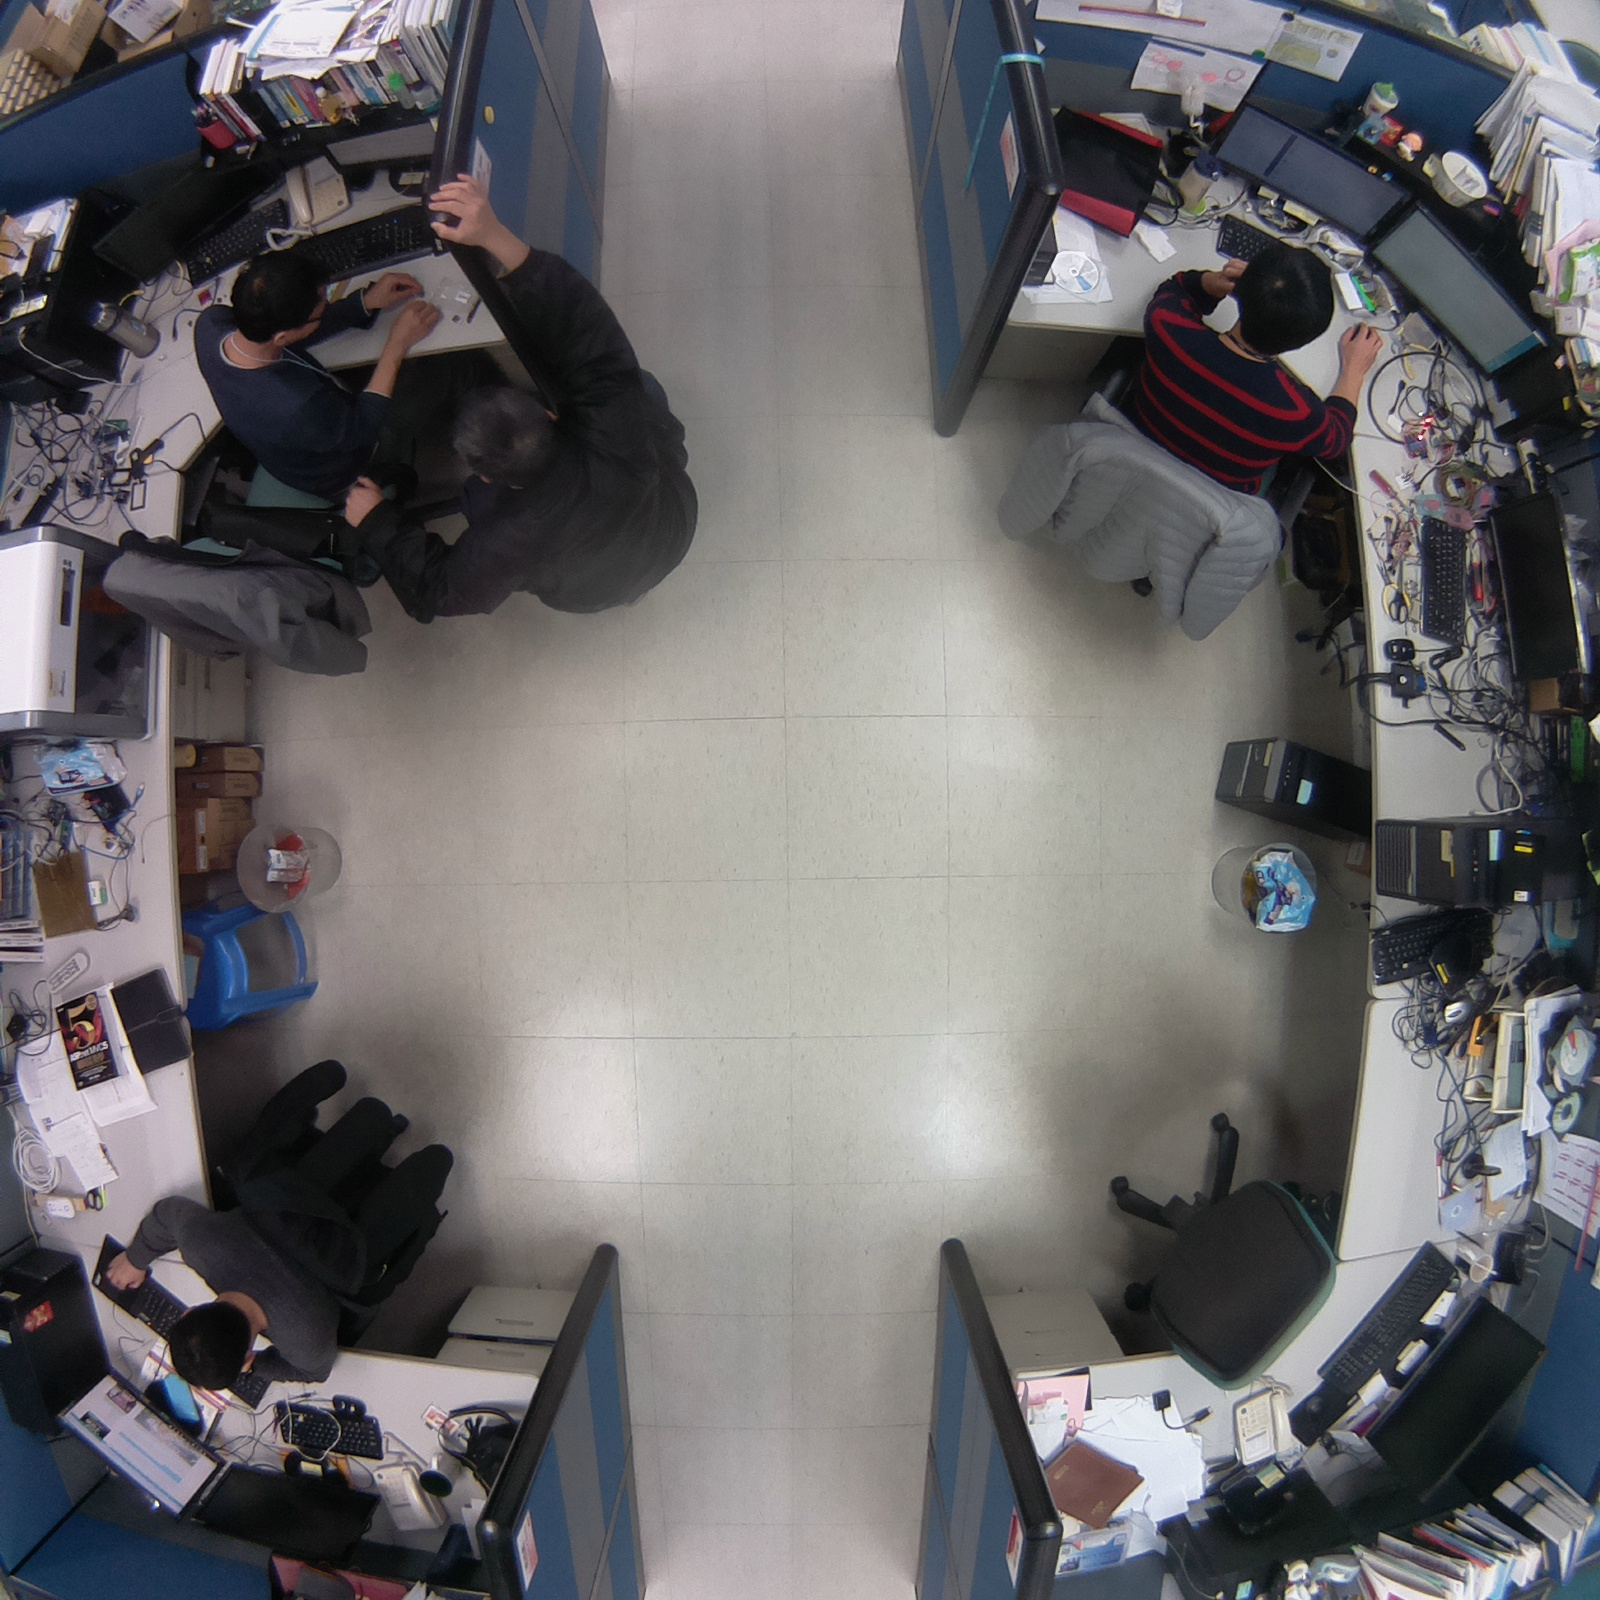chair: (1078, 1096, 1345, 1409)
head: (1229, 238, 1342, 355), (444, 387, 566, 495), (225, 240, 336, 346), (153, 1291, 261, 1395)
sitting: (988, 241, 1387, 658), (96, 245, 407, 691), (90, 1045, 468, 1397)
standing: (410, 352, 708, 632)
